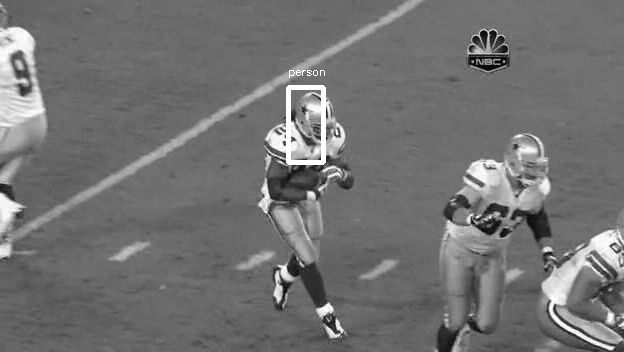person: (298, 93, 335, 140), (297, 93, 334, 140), (299, 93, 336, 140), (298, 92, 335, 139), (298, 94, 335, 141)
target_negative: (300, 54, 526, 215), (3, 4, 387, 97), (58, 225, 513, 284), (81, 308, 145, 334), (85, 314, 252, 317), (615, 66, 618, 80)
